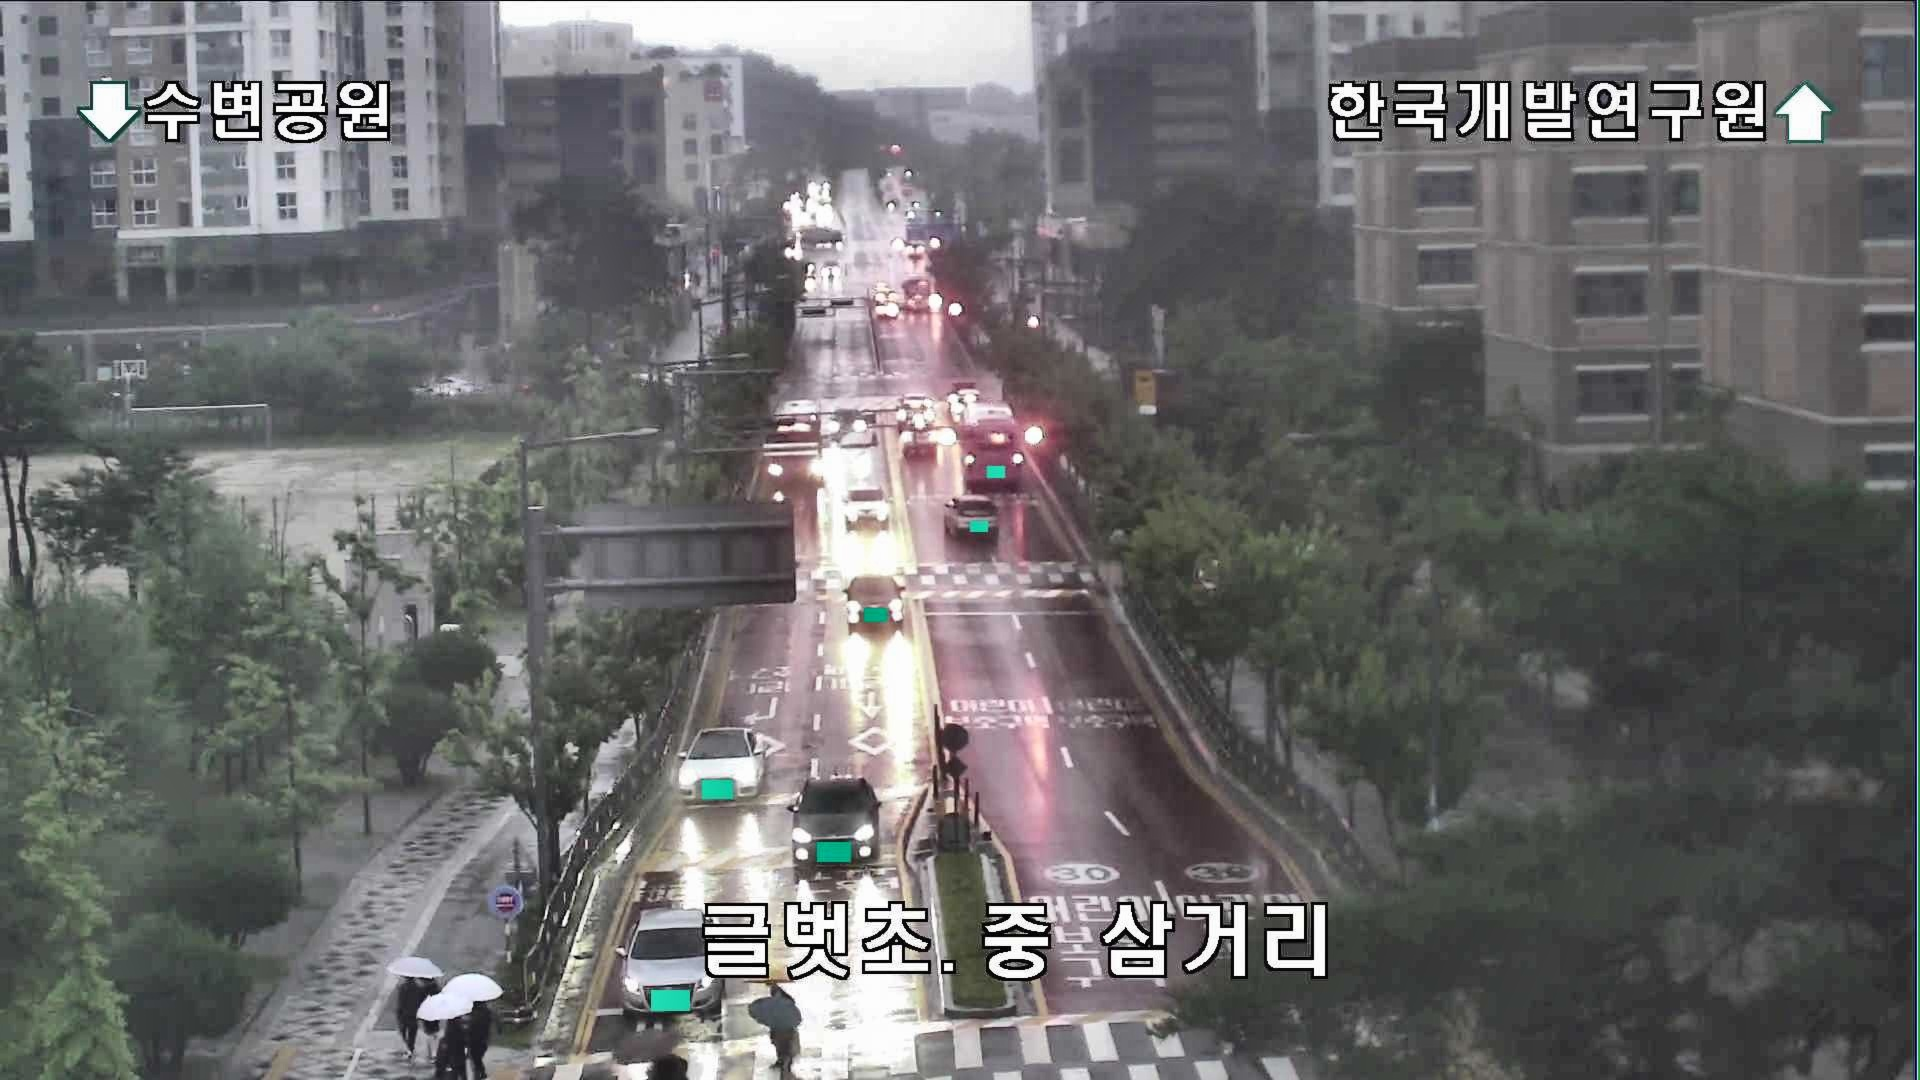um_crosswalk: (752, 994, 794, 1080)
um_sidewalk: (443, 977, 496, 1073), (423, 997, 471, 1080), (388, 960, 422, 1056)
